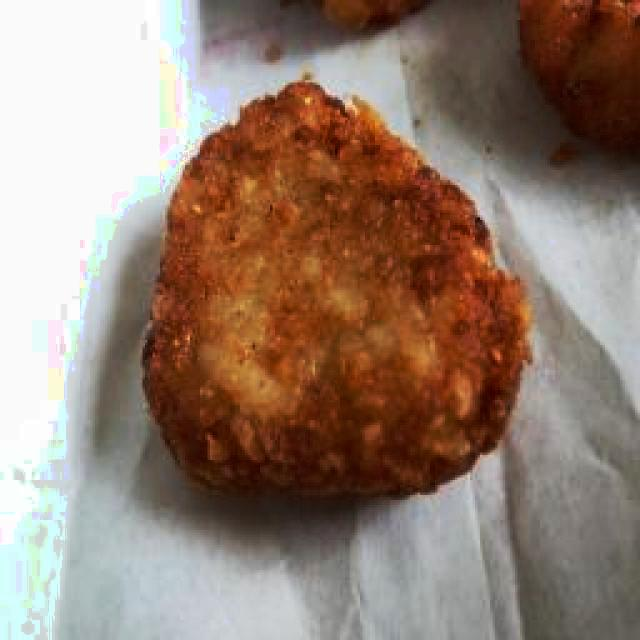Hashbrown: (141, 78, 525, 498)
